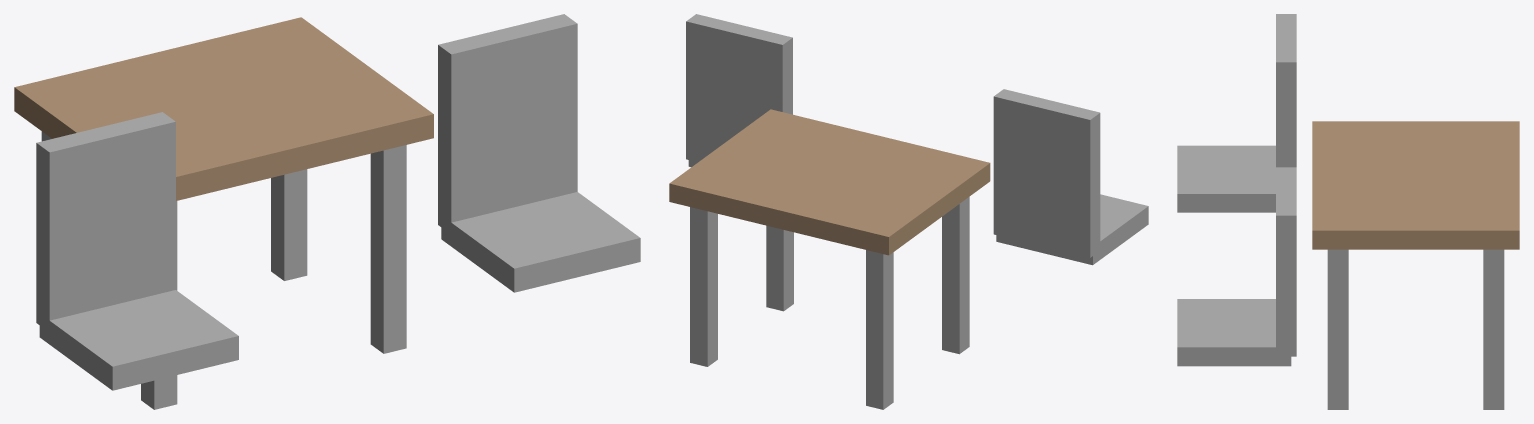
File: cafe_table_chair.glb
3 renders of one model, left to right at view 1: azimuth 30°, elevation 25°; view 2: azimuth 150°, elevation 25°; view 3: azimuth 270°, elevation 25°, orthographic. The views are drawn at different scales.
Parts seen in each view (by area): view 1: tabletop, back, back.001, seat, seat.001, leg11, leg1-1, leg-11; view 2: tabletop, back, back.001, leg-1-1, leg1-1, leg-11, seat, leg11; view 3: tabletop, seat.001, seat, back.001, leg1-1, leg11, back.
Boxes of the visible parts, x1=… form: tabletop: x1=14, y1=17, x2=433, y2=200; back: x1=36, y1=112, x2=175, y2=332; back.001: x1=438, y1=14, x2=577, y2=234; seat: x1=39, y1=290, x2=238, y2=390; seat.001: x1=441, y1=192, x2=640, y2=292; leg11: x1=370, y1=145, x2=406, y2=353; leg1-1: x1=271, y1=169, x2=307, y2=280; leg-11: x1=141, y1=201, x2=177, y2=409; tabletop: x1=669, y1=109, x2=990, y2=255; back: x1=993, y1=89, x2=1100, y2=257; back.001: x1=686, y1=14, x2=792, y2=162; leg-1-1: x1=866, y1=250, x2=893, y2=409; leg1-1: x1=690, y1=207, x2=717, y2=366; leg-11: x1=942, y1=197, x2=969, y2=354; seat: x1=996, y1=194, x2=1148, y2=265; leg11: x1=766, y1=225, x2=793, y2=311; tabletop: x1=1312, y1=121, x2=1519, y2=249; seat.001: x1=1177, y1=299, x2=1291, y2=366; seat: x1=1177, y1=145, x2=1275, y2=212; back.001: x1=1276, y1=167, x2=1296, y2=356; leg1-1: x1=1483, y1=249, x2=1504, y2=409; leg11: x1=1327, y1=249, x2=1348, y2=409; back: x1=1276, y1=14, x2=1296, y2=167.
Size of the model in its own units: 1.84 by 1.05 by 1.32.
